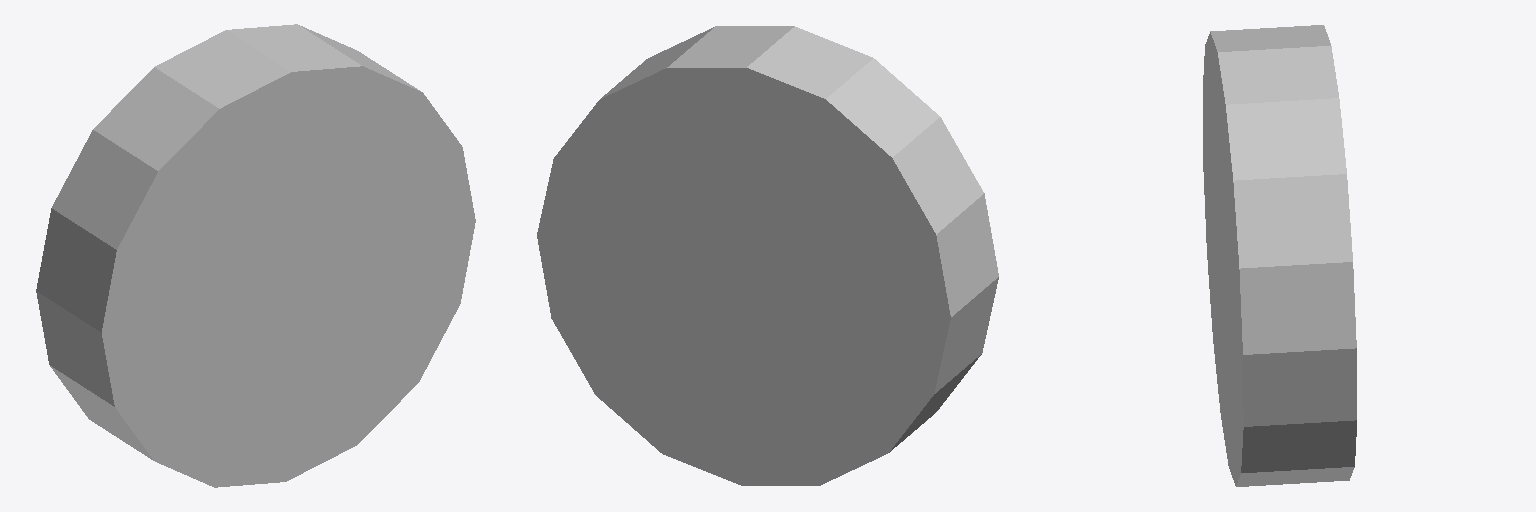
The model's file is cricket_headlight_L.obj.
3 renders of one model, left to right at view 1: azimuth 30°, elevation 25°; view 2: azimuth 150°, elevation 25°; view 3: azimuth 270°, elevation 25°, orthographic.
Parts seen in each view (by area): view 1: Headlight_L; view 2: Headlight_L; view 3: Headlight_L.
Part boxes in pixels (left/top/right/bottom): Headlight_L: left=36, top=24, right=475, bottom=487; Headlight_L: left=537, top=26, right=998, bottom=485; Headlight_L: left=1203, top=25, right=1356, bottom=486.
Bounding box in the file's own units: 0.2036 × 0.2011 × 0.0678.